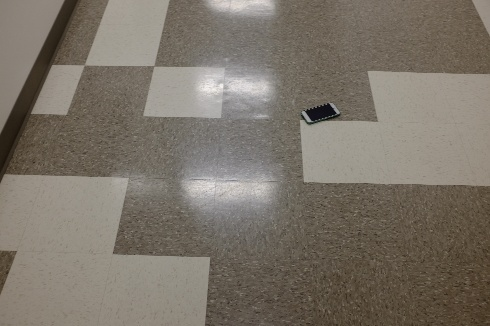phone: (296, 97, 345, 129)
